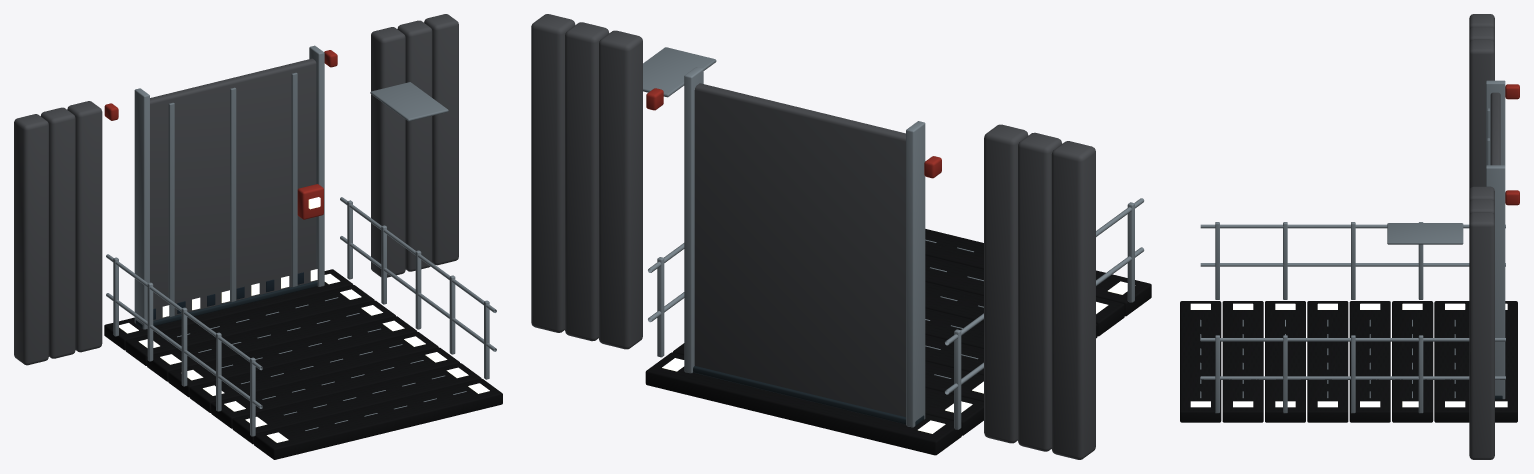
The model's file is docking-vestibule.glb.
3 renders of one model, left to right at view 1: azimuth 30°, elevation 25°; view 2: azimuth 150°, elevation 25°; view 3: azimuth 270°, elevation 25°, orthographic. The views are drawn at different scales.
Visible parts, largest first — view 1: SafetyDoorPressurePanel, OuterHullPanel-12, OuterHullPanel10, BridgeDeckPanel7, OuterHullPanel-10, OuterHullPanel-11, OuterHullPanel12, OuterHullPanel11, BridgeDeckPanel6, BridgeDeckPanel5, BridgeDeckPanel4, BridgeDeckPanel1 (+19 smaller); view 2: SafetyDoorPressurePanel, OuterHullPanel-12, OuterHullPanel10, OuterHullPanel-10, OuterHullPanel-11, OuterHullPanel12, OuterHullPanel11, BridgeDeckPanel0, GateSlideChannel-1.18, GateSlideChannel1.18, BridgeDeckPanel7, BridgeDeckPanel6 (+10 smaller); view 3: OuterHullPanel12, BridgeDeckPanel4, BridgeDeckPanel6, BridgeDeckPanel7, BridgeDeckPanel3, BridgeDeckPanel2, BridgeDeckPanel5, BridgeDeckPanel1, OuterHullPanel-10, GateSlideChannel1.18, BridgeDeckPanel0, FallingServicePanel (+15 smaller).
Part boxes in pixels (left/top/right/bottom): SafetyDoorPressurePanel: left=150, top=58, right=316, bottom=320; OuterHullPanel-12: left=14, top=114, right=48, bottom=365; OuterHullPanel10: left=371, top=27, right=405, bottom=277; BridgeDeckPanel7: left=254, top=379, right=502, bottom=459; OuterHullPanel-10: left=67, top=101, right=102, bottom=352; OuterHullPanel-11: left=40, top=107, right=75, bottom=358; OuterHullPanel12: left=424, top=14, right=458, bottom=265; OuterHullPanel11: left=397, top=20, right=432, bottom=271; BridgeDeckPanel6: left=232, top=363, right=481, bottom=444; BridgeDeckPanel5: left=211, top=347, right=459, bottom=428; BridgeDeckPanel4: left=189, top=332, right=438, bottom=412; BridgeDeckPanel1: left=125, top=285, right=374, bottom=365; SafetyDoorPressurePanel: left=694, top=83, right=905, bottom=417; OuterHullPanel-12: left=1051, top=141, right=1095, bottom=459; OuterHullPanel10: left=599, top=30, right=642, bottom=349; OuterHullPanel-10: left=984, top=124, right=1028, bottom=443; OuterHullPanel-11: left=1018, top=132, right=1062, bottom=451; OuterHullPanel12: left=531, top=14, right=575, bottom=332; OuterHullPanel11: left=565, top=22, right=609, bottom=341; BridgeDeckPanel0: left=645, top=352, right=961, bottom=455; GateSlideChannel-1.18: left=906, top=121, right=925, bottom=427; GateSlideChannel1.18: left=684, top=67, right=703, bottom=373; BridgeDeckPanel7: left=925, top=229, right=1151, bottom=316; BridgeDeckPanel6: left=925, top=255, right=1124, bottom=336; OuterHullPanel12: left=1469, top=212, right=1494, bottom=459; BridgeDeckPanel4: left=1307, top=301, right=1348, bottom=422; BridgeDeckPanel6: left=1222, top=301, right=1263, bottom=422; BridgeDeckPanel7: left=1180, top=301, right=1221, bottom=422; BridgeDeckPanel3: left=1349, top=301, right=1390, bottom=422; BridgeDeckPanel2: left=1392, top=301, right=1433, bottom=422; BridgeDeckPanel5: left=1265, top=301, right=1305, bottom=422; BridgeDeckPanel1: left=1434, top=301, right=1469, bottom=422; OuterHullPanel-10: left=1469, top=39, right=1494, bottom=190; GateSlideChannel1.18: left=1486, top=165, right=1505, bottom=399; BridgeDeckPanel0: left=1495, top=301, right=1517, bottom=422; FallingServicePanel: left=1387, top=223, right=1463, bottom=244.
Bounding box in the file's own units: 5.88 × 3.25 × 4.01.
Materials: 8 (1 with a texture image).
